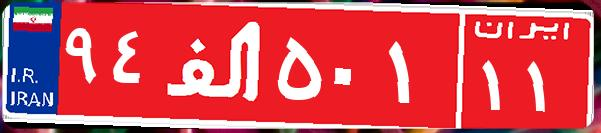0: (330, 28, 385, 110)
1: (385, 28, 445, 110), (475, 38, 525, 113), (525, 38, 570, 115)
4: (110, 28, 158, 105)
5: (273, 28, 330, 110)
9: (57, 26, 110, 107)
الف: (158, 15, 273, 115)
